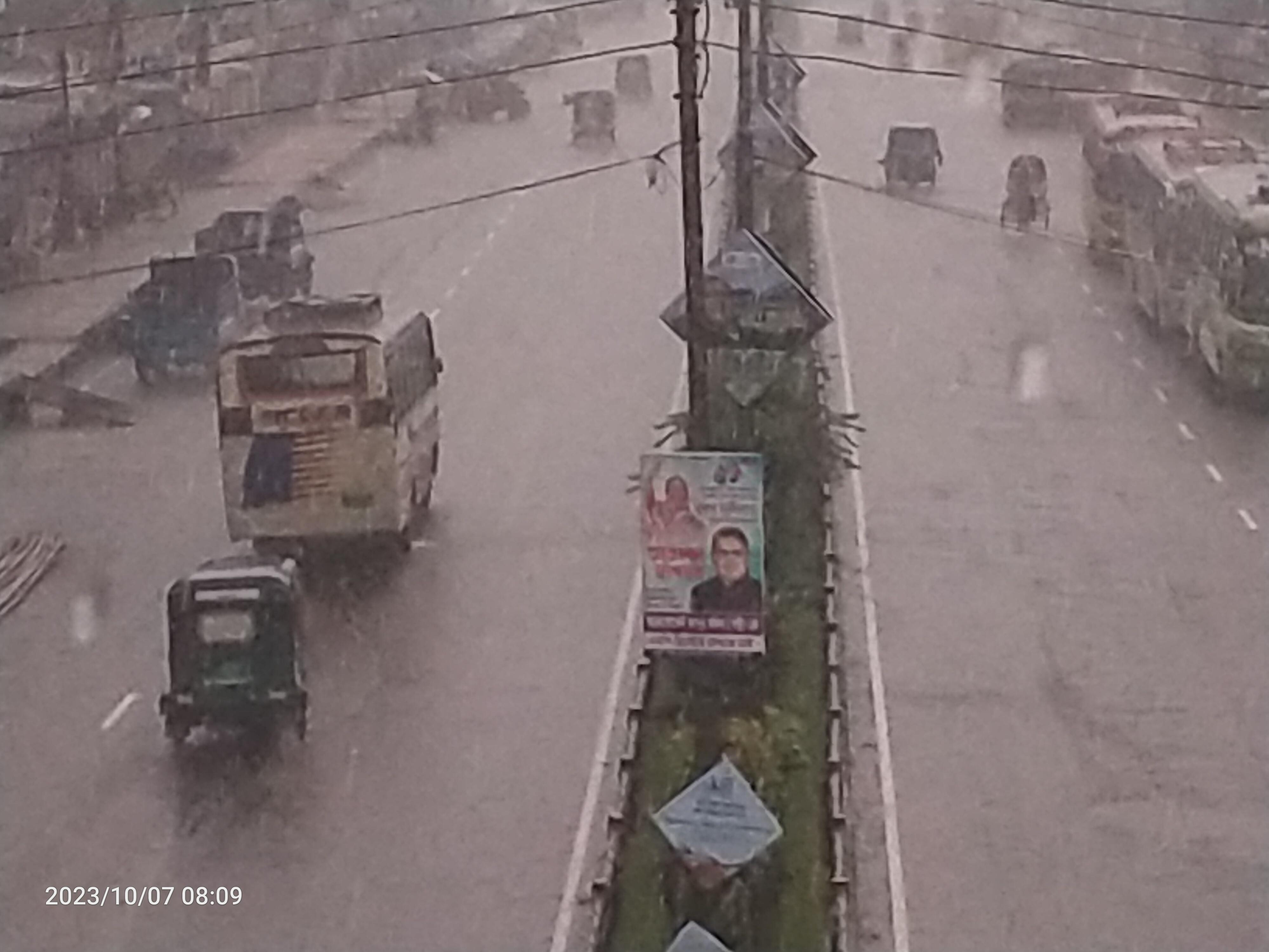Bus: (190, 272, 452, 575), (1168, 148, 1269, 394), (1074, 95, 1162, 293)
Car: (976, 142, 1067, 246)
Truck: (110, 232, 243, 400), (183, 176, 346, 311)
